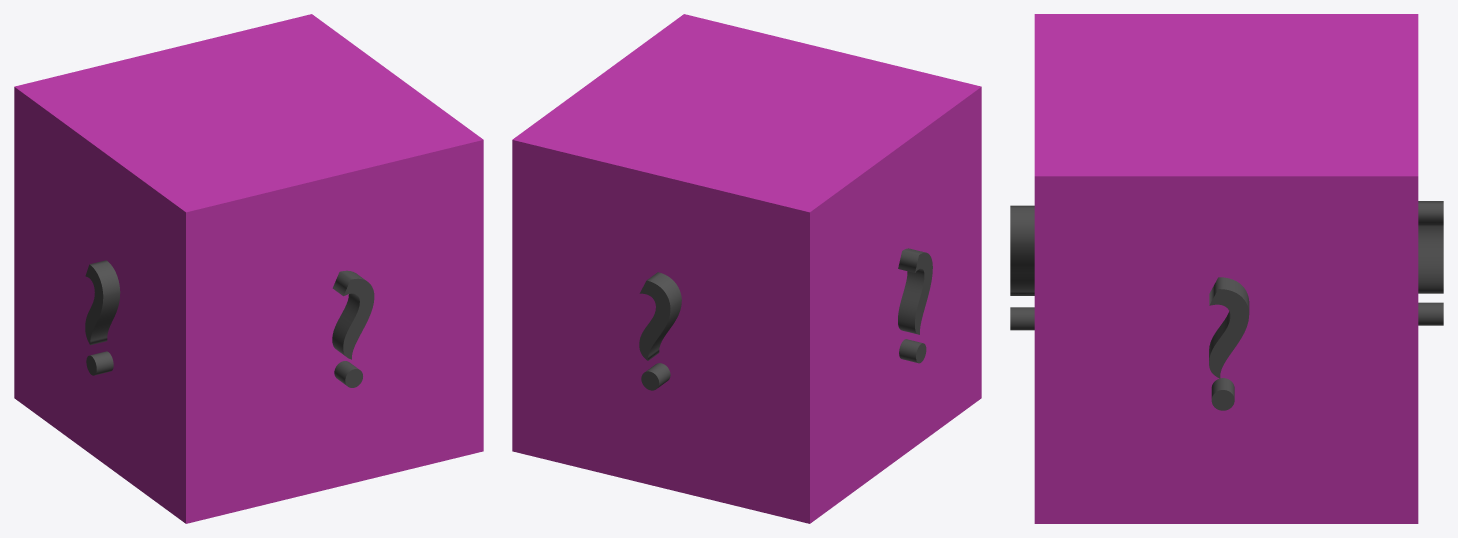
The model's file is epic.glb.
The picture shows the model from 3 angles, left to right: view 1: azimuth 30°, elevation 25°; view 2: azimuth 150°, elevation 25°; view 3: azimuth 270°, elevation 25°; orthographic projection. The views are drawn at different scales.
Parts seen in each view (by area): view 1: Cube, Text.002, Text.007, Text.003, Text.006; view 2: Cube, Text.002, Text.005, Text.001; view 3: Cube, Text, Text.001, Text.007, Text.003, Text.004.
Boxes of the visible parts, x1,y1,x2,y2 form: Cube: (14,14,483,523); Text.002: (85,260,120,375); Text.007: (332,270,374,387); Text.003: (332,271,373,387); Text.006: (90,261,119,374); Cube: (512,14,981,523); Text.002: (898,248,932,363); Text.005: (639,272,681,390); Text.001: (639,272,670,390); Cube: (1034,14,1418,523); Text: (1209,277,1249,410); Text.001: (1418,204,1443,325); Text.007: (1010,205,1034,329); Text.003: (1010,211,1034,330); Text.004: (1211,286,1248,410).
Bounding box in the file's own units: 2.26 × 2 × 2.26.
